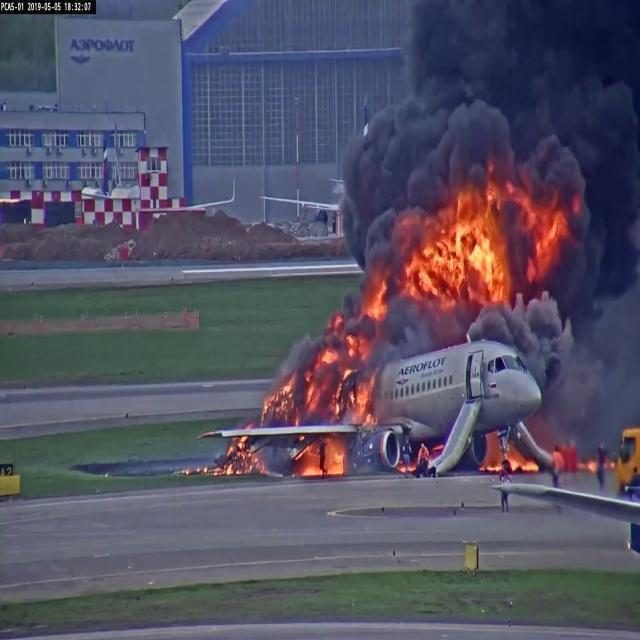Fire: (415, 227, 502, 308)
Smoke: (411, 3, 640, 194)
